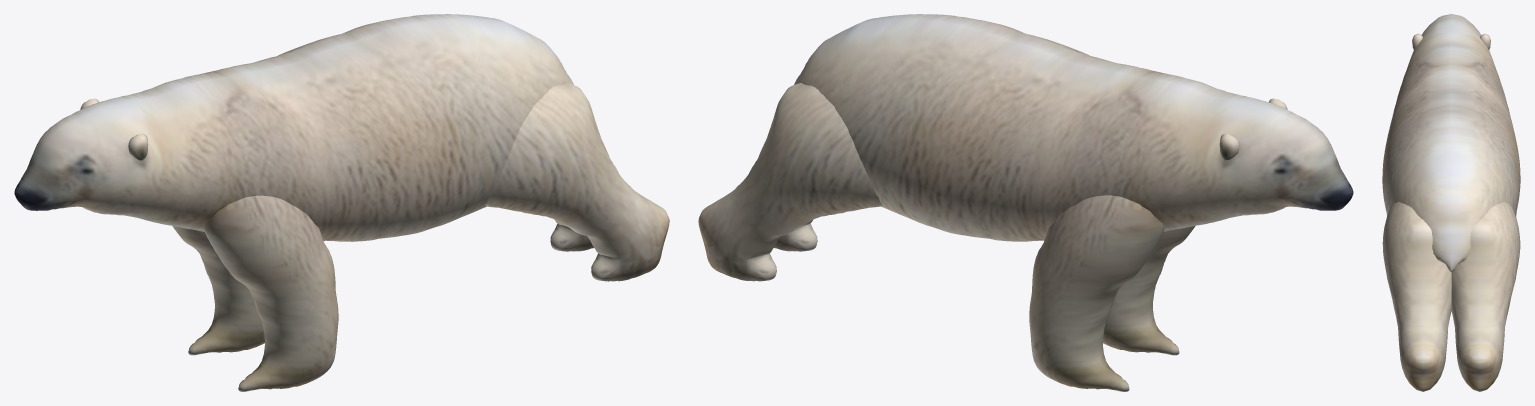
File: polar-bear.glb
3 views of the same model, side by side, from view 1: azimuth 30°, elevation 25°; view 2: azimuth 150°, elevation 25°; view 3: azimuth 270°, elevation 25° (orthographic). The views are drawn at different scales.
Visible parts, largest first — view 1: mm_frame (47); view 2: mm_frame (47); view 3: mm_frame (47).
Boxes of the visible parts, x1,y1,x2,y2 form: mm_frame (47): (14,14,669,391); mm_frame (47): (698,14,1353,391); mm_frame (47): (1382,14,1520,391).
Bounding box in the file's own units: 6.15 × 2.86 × 1.67.
Materials: 1 (1 with a texture image).
